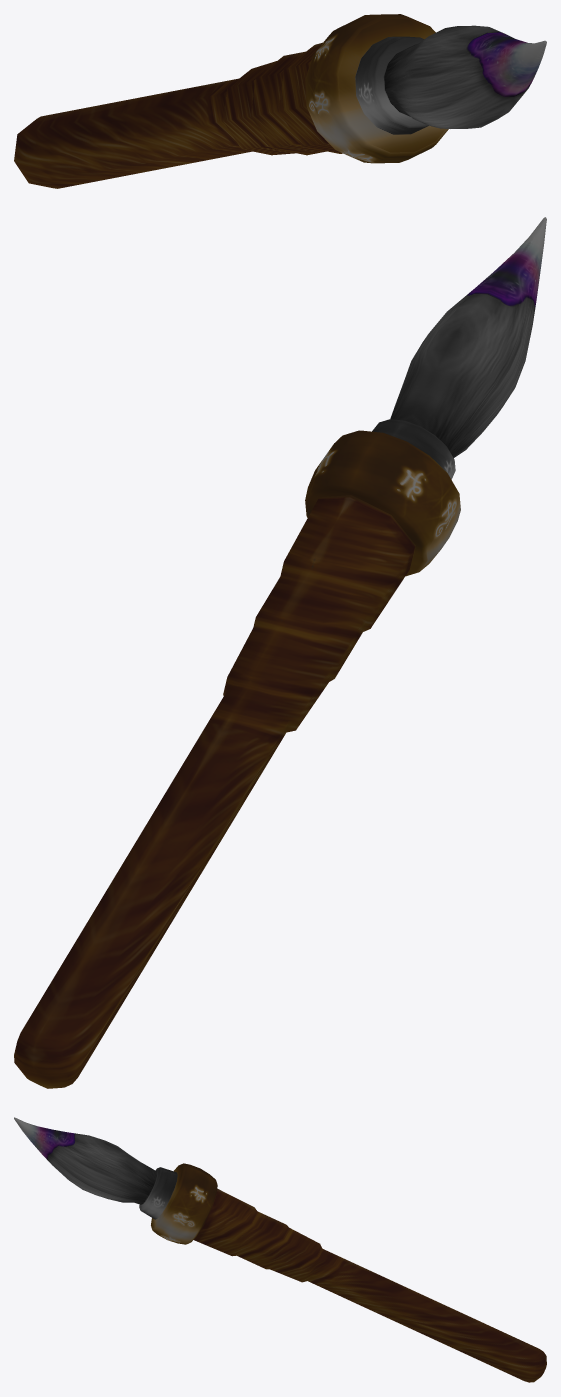
Rendered from brush_v2.glb.
3 renders of one model, top to bottom at view 1: azimuth 30°, elevation 25°; view 2: azimuth 150°, elevation 25°; view 3: azimuth 270°, elevation 25°, orthographic. The views are drawn at different scales.
Parts seen in each view (by area): view 1: Circle, Circle.001, Circle.002; view 2: Circle, Circle.002, Circle.001; view 3: Circle, Circle.002, Circle.001.
Part boxes in pixels (x1,y1,x2,y2): Circle: (14,42,342,188); Circle.001: (305,14,448,163); Circle.002: (383,25,546,128); Circle: (14,495,415,1088); Circle.002: (390,217,546,457); Circle.001: (305,419,460,576); Circle: (194,1188,546,1382); Circle.002: (14,1117,157,1204); Circle.001: (139,1163,217,1244).
Size of the model in its own units: 0.6226 by 2.3 by 4.2.
1 material, 1 textured.
